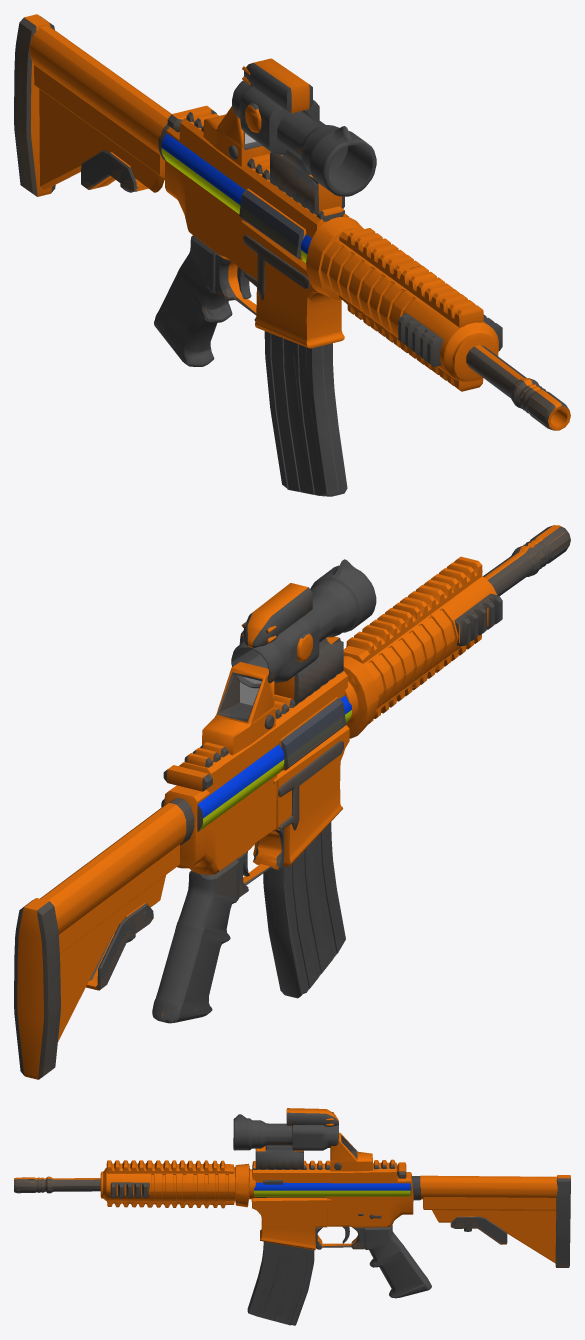
File: Rifle.fbx
The picture shows the model from 3 angles, top to bottom: view 1: azimuth 30°, elevation 25°; view 2: azimuth 150°, elevation 25°; view 3: azimuth 270°, elevation 25°; orthographic projection. The views are drawn at different scales.
Parts seen in each view (by area): view 1: vAssaultRifle_3, Scope, Clip, Scope2; view 2: vAssaultRifle_3, Scope, Clip, Scope2; view 3: vAssaultRifle_3, Scope, Clip, Scope2.
Part boxes in pixels (box(x1,y1,x2,y2)): vAssaultRifle_3: box(14, 14, 570, 430); Scope: box(232, 58, 376, 215); Clip: box(264, 331, 347, 496); Scope2: box(203, 106, 270, 166); vAssaultRifle_3: box(14, 525, 570, 1079); Scope: box(231, 559, 376, 704); Clip: box(263, 822, 345, 998); Scope2: box(202, 662, 275, 755); vAssaultRifle_3: box(14, 1159, 570, 1298); Scope: box(233, 1108, 338, 1169); Clip: box(247, 1241, 314, 1325); Scope2: box(330, 1132, 372, 1171).
Size of the model in its own units: 6.79 by 36.5 by 86.23.
